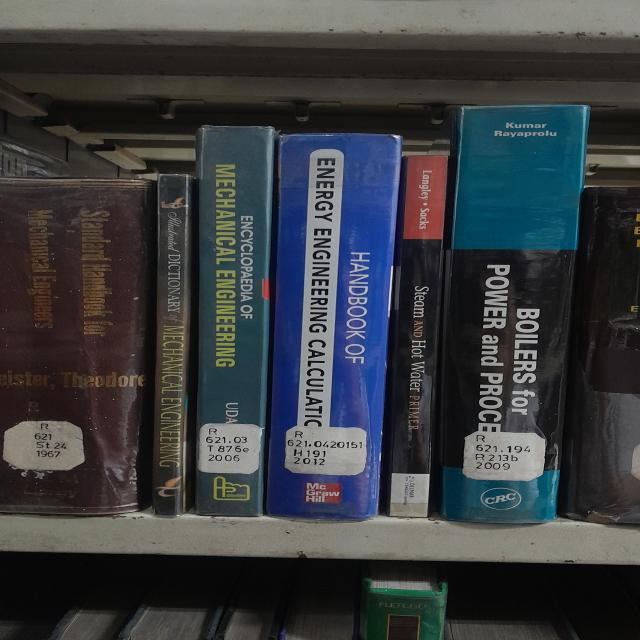book: (435, 105, 590, 523), (266, 133, 401, 520), (0, 179, 155, 515), (195, 125, 278, 517), (382, 155, 448, 517), (152, 174, 194, 516)
